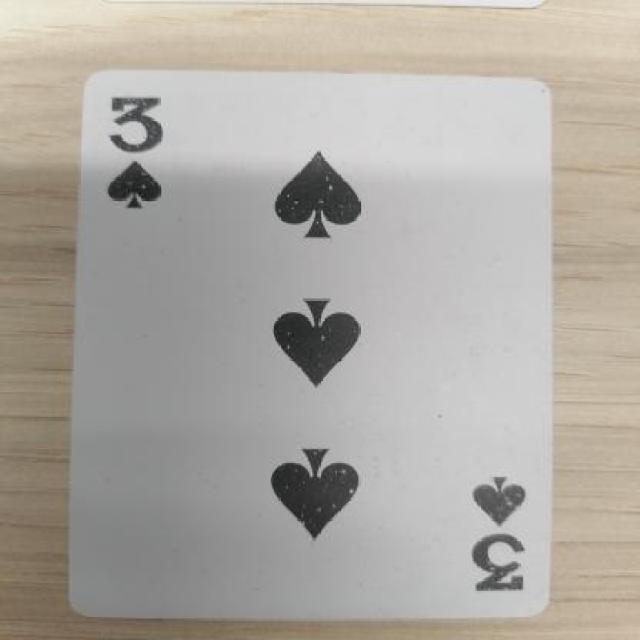3S: (84, 74, 188, 220), (450, 445, 525, 617)
